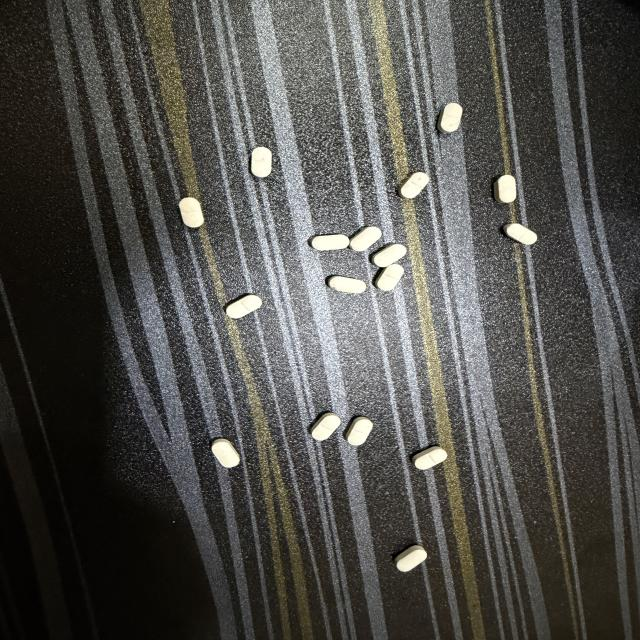pill: (225, 294, 262, 318), (395, 546, 427, 571), (212, 439, 240, 467), (311, 413, 340, 440), (413, 446, 447, 469), (373, 244, 406, 267), (375, 264, 404, 290), (179, 197, 204, 227), (437, 103, 462, 133), (350, 227, 381, 251), (400, 172, 428, 198), (347, 417, 372, 445), (311, 233, 350, 250), (504, 224, 537, 244), (328, 276, 366, 293), (251, 147, 272, 177), (494, 175, 516, 203)
